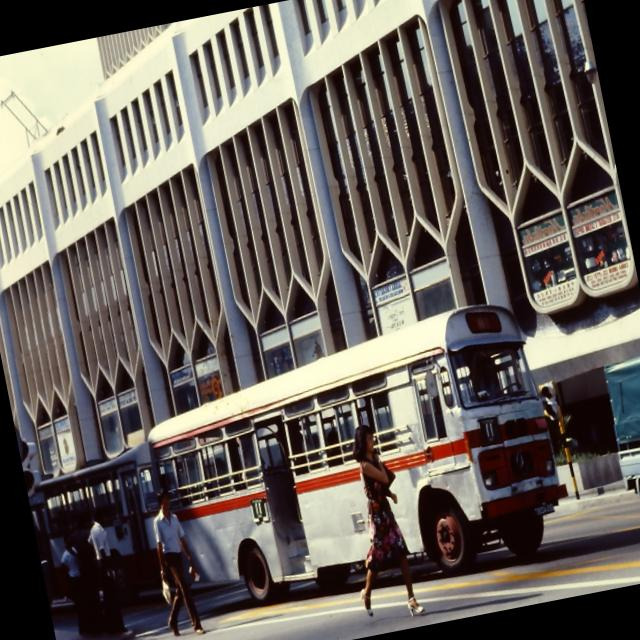bus: (132, 284, 580, 624), (27, 446, 176, 612)
